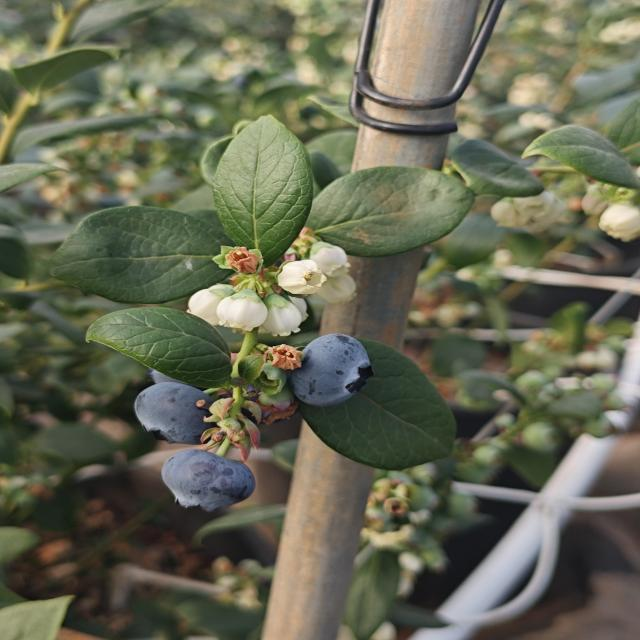ripe: (286, 330, 374, 413), (157, 444, 262, 512), (124, 378, 221, 444)
